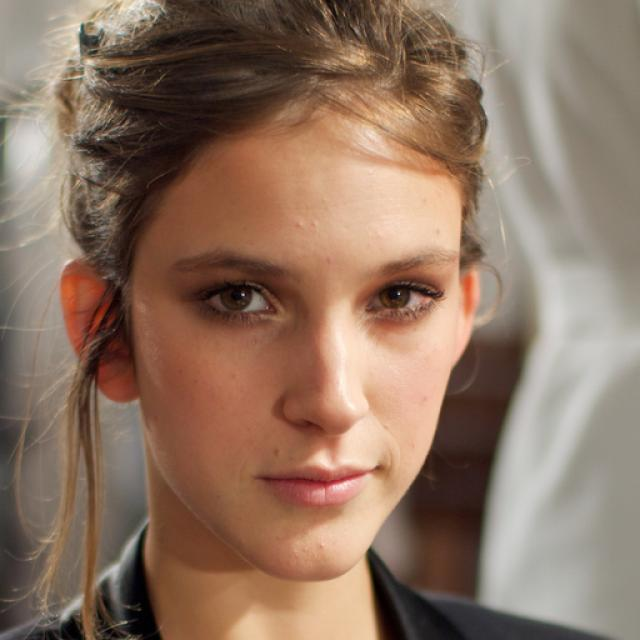content: (132, 124, 466, 582)
